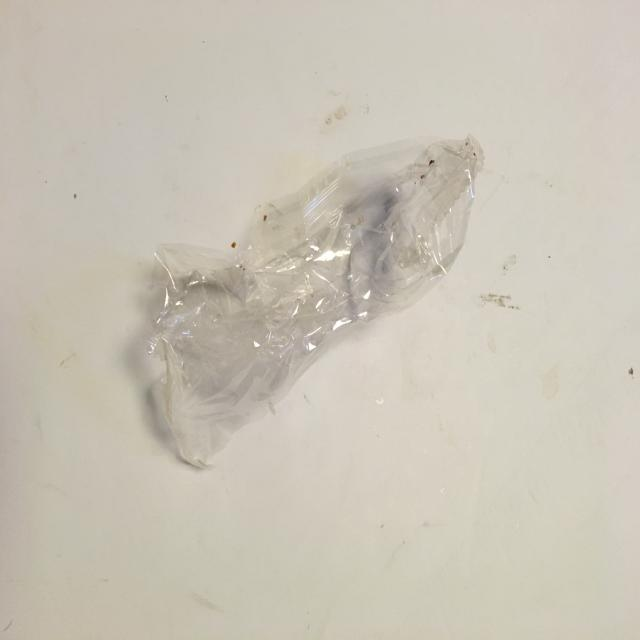plastic: (126, 132, 486, 474)
